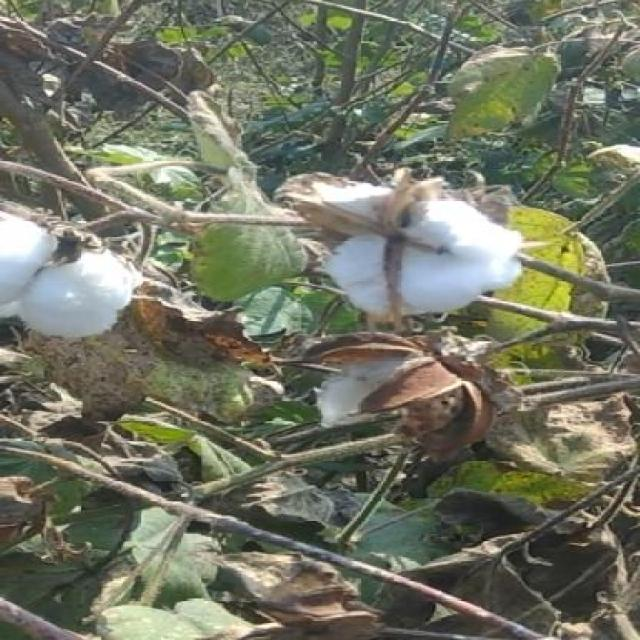cotton_ready: (282, 172, 549, 328)
